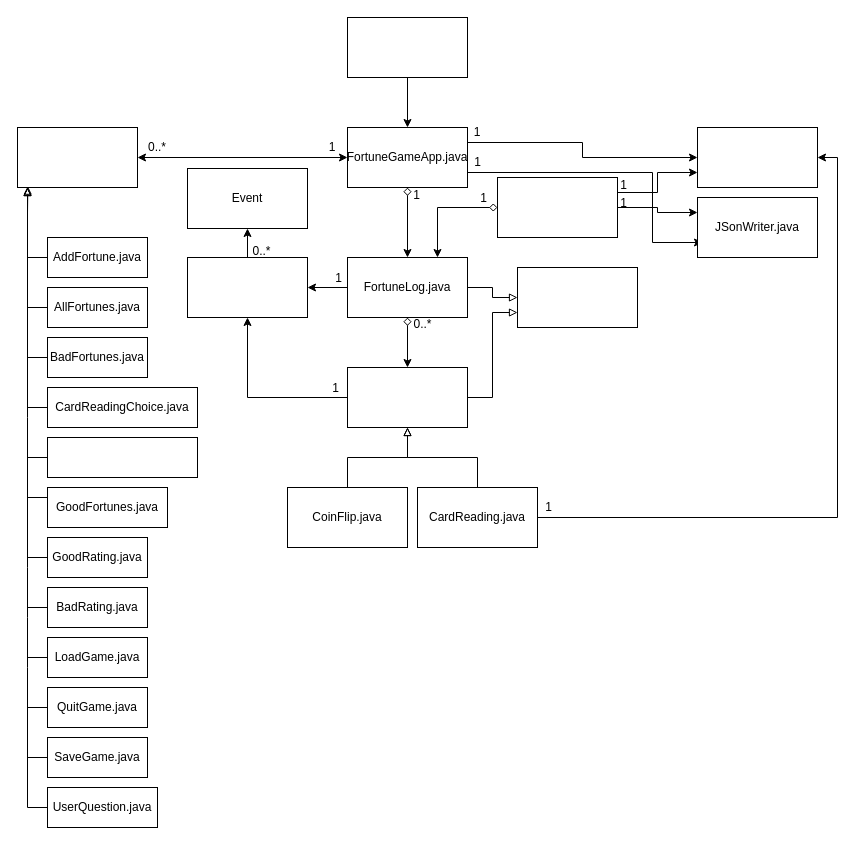
The diagram is 863 pixels wide and 845 high, and some of its shapes have lost their labels. Here are the shapes that lost their labels. From the top down, the centre of each, then its label:
point (407, 47): Main.java
point (77, 157): <<abstract>> GameAction.java
point (757, 157): JSonReader.java
point (557, 207): FortuneGame.java
point (247, 287): EventLog.java
point (577, 297): <<interface>> Writable.java
point (407, 397): <<abstract>> Fortune.java
point (122, 457): CoinFlipChoice.java
